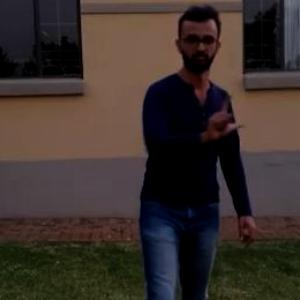land_hand: (197, 87, 253, 144)
